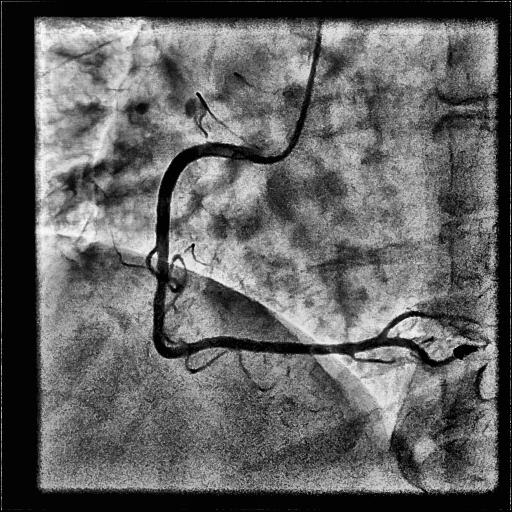pborca: (381, 312, 477, 335)
pda: (381, 335, 485, 367)
rca: (153, 142, 381, 359)
